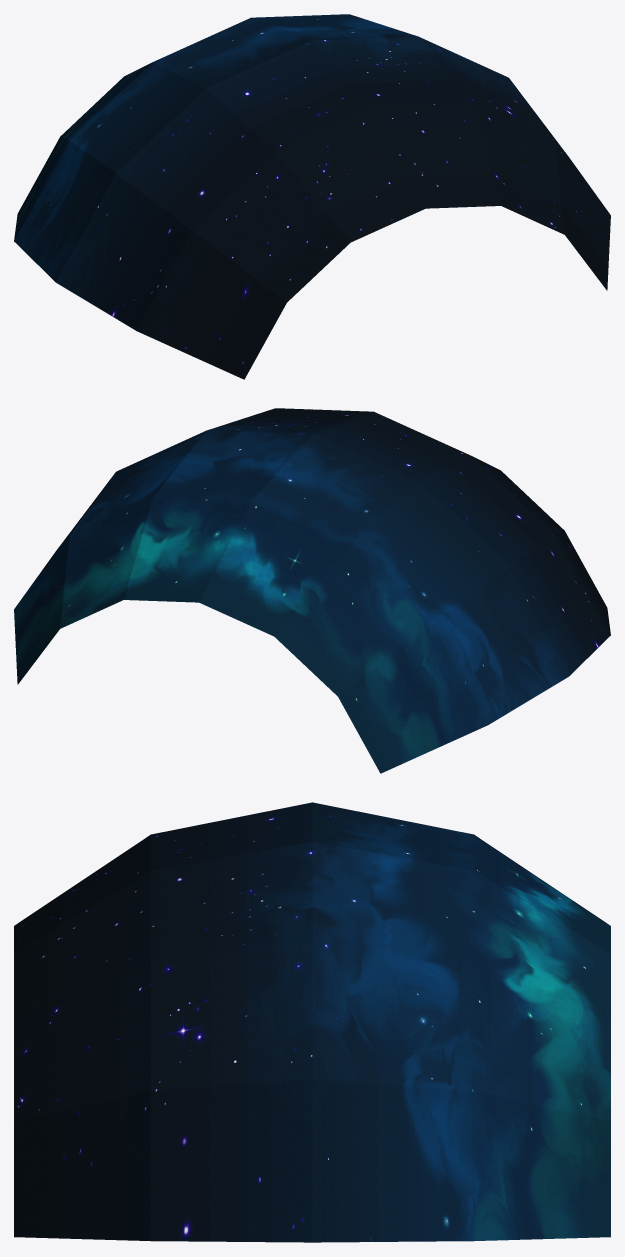
File: ThugShip_Tile_Skydome_02.fbx
The picture shows the model from 3 angles, top to bottom: view 1: azimuth 30°, elevation 25°; view 2: azimuth 150°, elevation 25°; view 3: azimuth 270°, elevation 25°; orthographic projection. The views are drawn at different scales.
Visible parts, largest first — view 1: ThugShip_Tile_Skydome_02_Tex_b_b, ThugShip_Tile_Skydome_02_Tex_a_b, ThugShip_Tile_Skydome_02_Tex_b_a, ThugShip_Tile_Skydome_02_Tex_a_a; view 2: ThugShip_Tile_Skydome_02_Tex_b_a, ThugShip_Tile_Skydome_02_Tex_a_a, ThugShip_Tile_Skydome_02_Tex_b_b, ThugShip_Tile_Skydome_02_Tex_a_b; view 3: ThugShip_Tile_Skydome_02_Tex_a_b, ThugShip_Tile_Skydome_02_Tex_a_a, ThugShip_Tile_Skydome_02_Tex_b_a, ThugShip_Tile_Skydome_02_Tex_b_b.
Part boxes in pixels (x1,y1,x2,y2): ThugShip_Tile_Skydome_02_Tex_b_b: (56, 40, 425, 379); ThugShip_Tile_Skydome_02_Tex_a_b: (312, 36, 610, 290); ThugShip_Tile_Skydome_02_Tex_b_a: (14, 17, 311, 282); ThugShip_Tile_Skydome_02_Tex_a_a: (252, 14, 417, 40); ThugShip_Tile_Skydome_02_Tex_b_a: (199, 434, 568, 773); ThugShip_Tile_Skydome_02_Tex_a_a: (14, 430, 312, 684); ThugShip_Tile_Skydome_02_Tex_b_b: (313, 411, 610, 676); ThugShip_Tile_Skydome_02_Tex_a_b: (207, 408, 372, 434); ThugShip_Tile_Skydome_02_Tex_a_b: (14, 841, 312, 1242); ThugShip_Tile_Skydome_02_Tex_a_a: (312, 841, 610, 1242); ThugShip_Tile_Skydome_02_Tex_b_a: (312, 802, 610, 953); ThugShip_Tile_Skydome_02_Tex_b_b: (14, 802, 312, 953).
Size of the model in its own units: 28.14 by 11.11 by 21.54.
4 materials, 4 textured.
